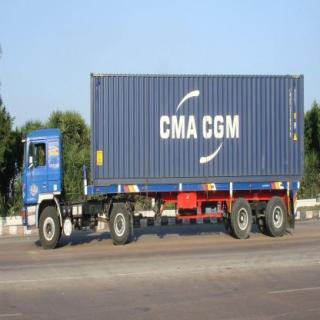Normal_vehicle: (18, 58, 310, 257)
